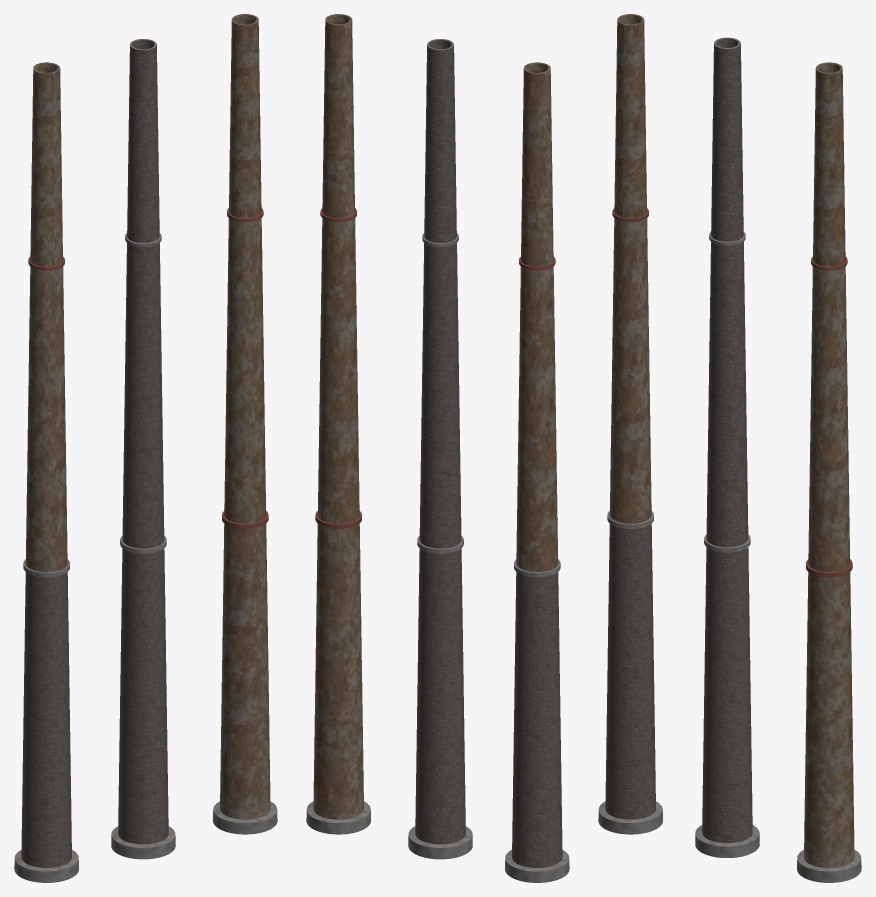
File: smoke-stacks.lod0.glb
3 renders of one model, left to right at view 1: azimuth 30°, elevation 25°; view 2: azimuth 150°, elevation 25°; view 3: azimuth 330°, elevation 25°, orthographic.
Visible parts, largest first — view 1: Object_4; view 2: Object_4; view 3: Object_4.
Boxes of the visible parts, x1,y1,x2,y2 form: Object_4: (14,14,277,882); Object_4: (306,14,569,882); Object_4: (598,14,861,882).
Bounding box in the file's own units: 13.3 × 40 × 2.92.
Materials: 1 (1 with a texture image).
